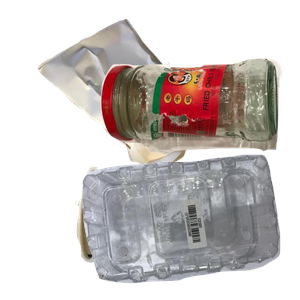glass: (98, 56, 300, 201)
paper: (35, 10, 237, 178)
plastic: (80, 152, 300, 300)
trash: (73, 164, 278, 300)
